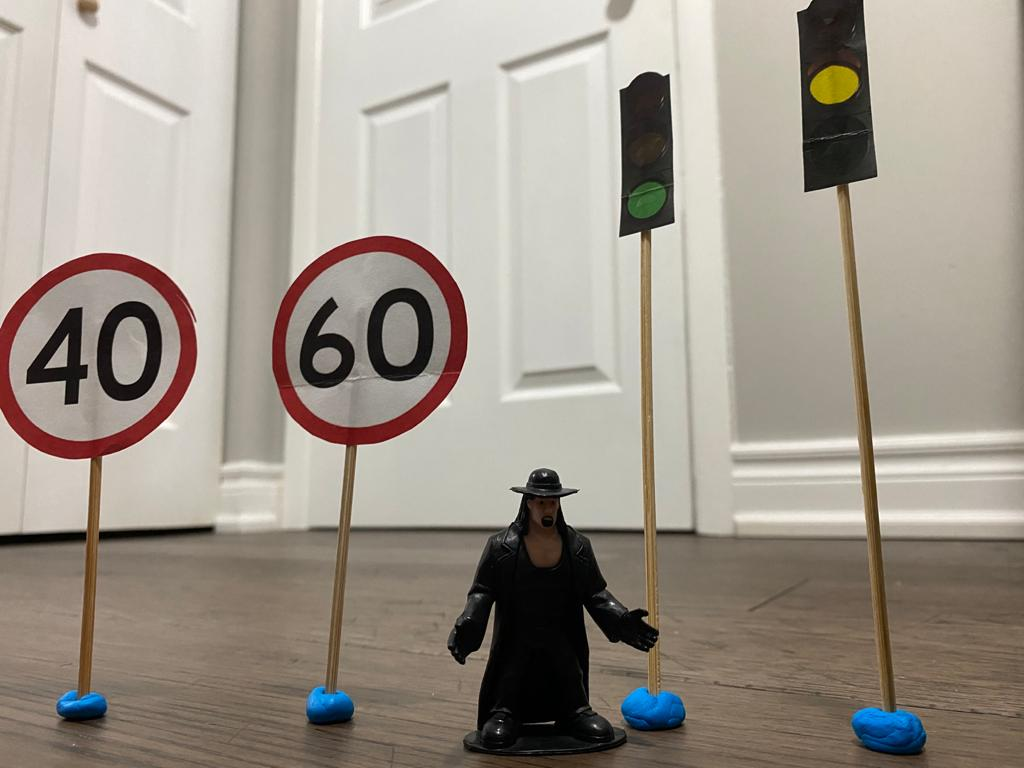Green Traffic Light: (609, 67, 680, 245)
Person: (443, 465, 663, 759)
Speed Limit 40: (2, 248, 208, 459)
Speed Limit 60: (264, 231, 473, 456)
Yellow Traffic Light: (795, 1, 881, 201)
